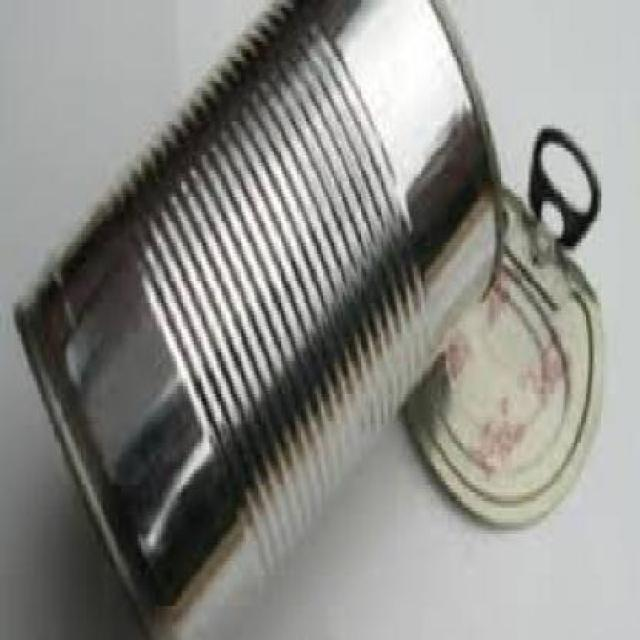METAL: (12, 0, 500, 637), (394, 124, 606, 534), (526, 125, 597, 242)
